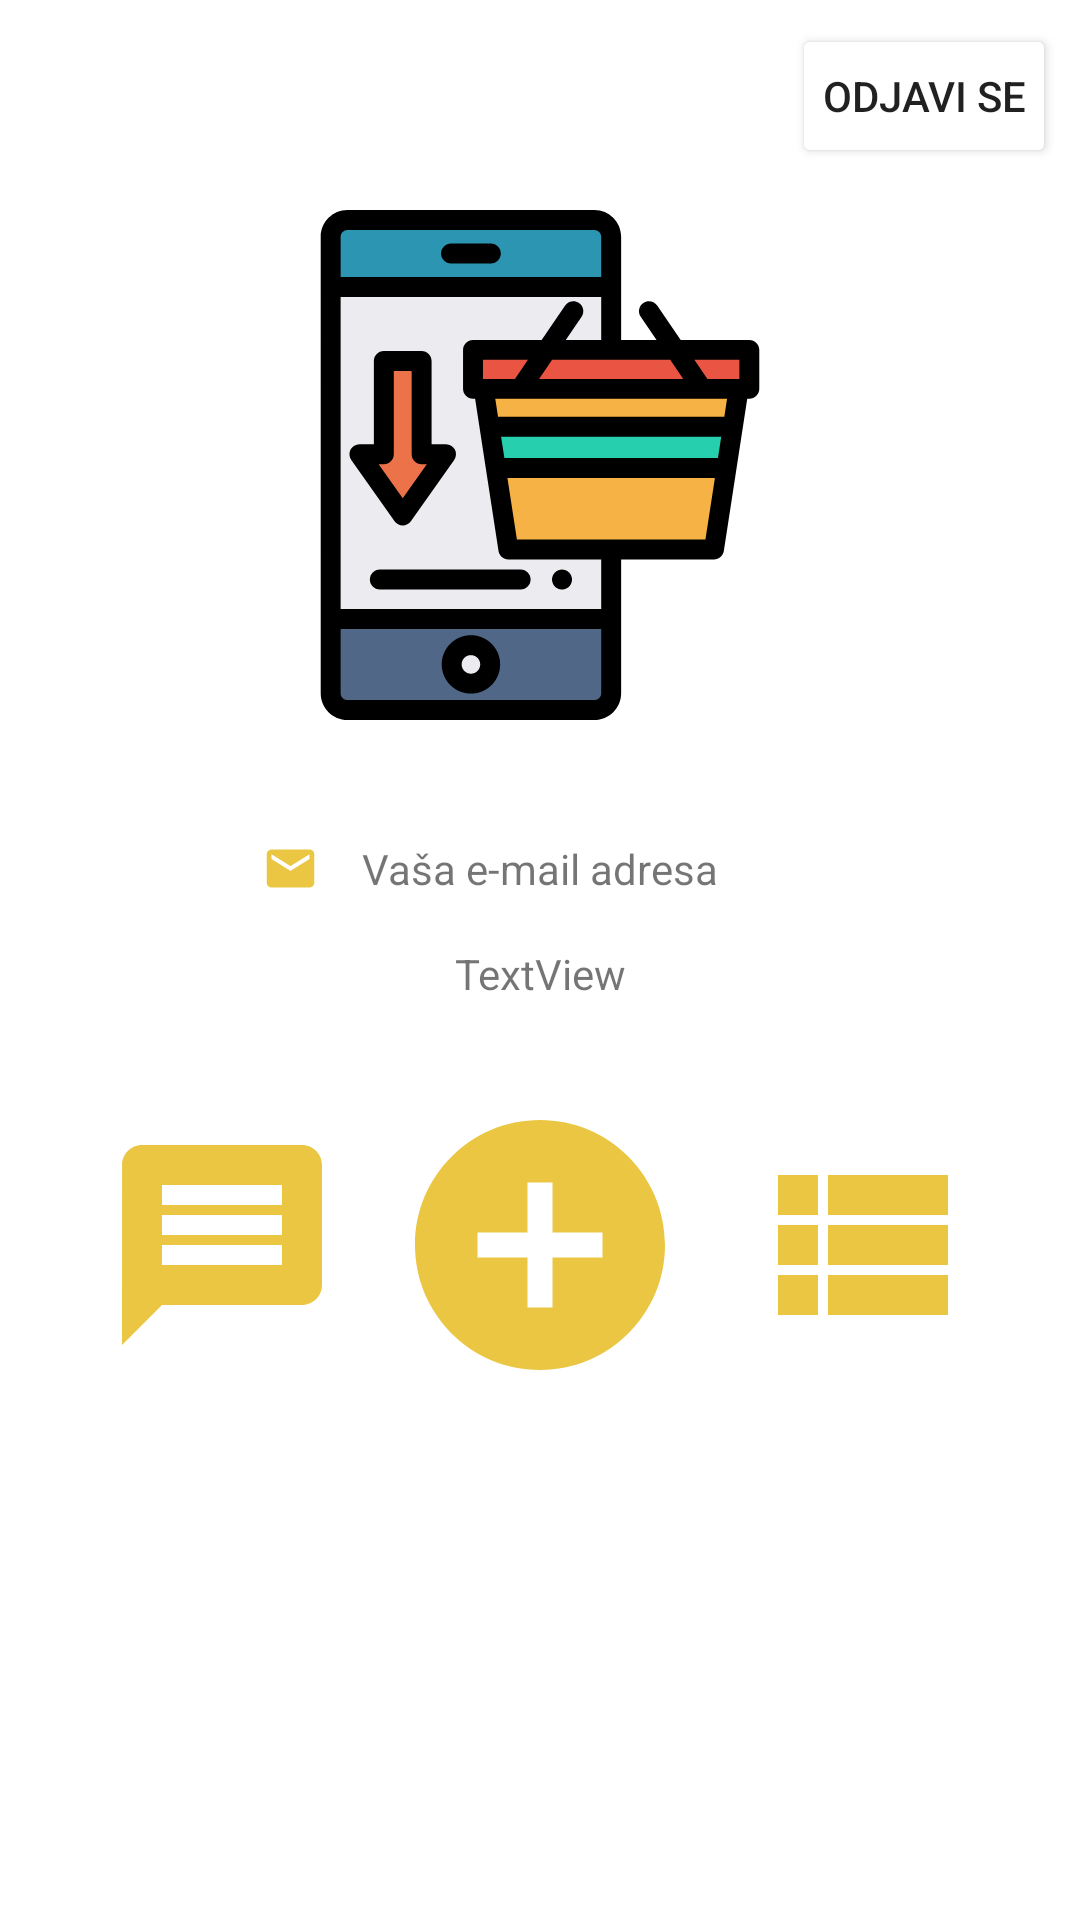

Where to tap for icons on this 1080px x 1920px app screen, as (x,y):
select upload: (540,1245)
view email: (290,868)
view message: (222,1245)
